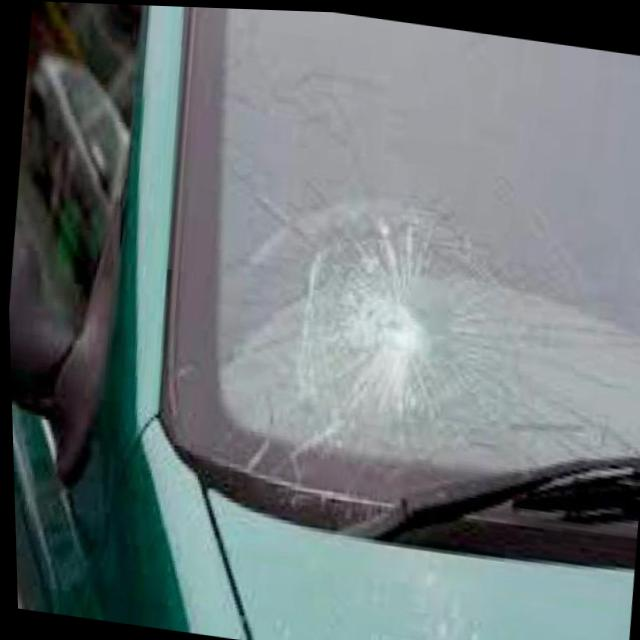Car-Damage: (288, 202, 520, 435)
